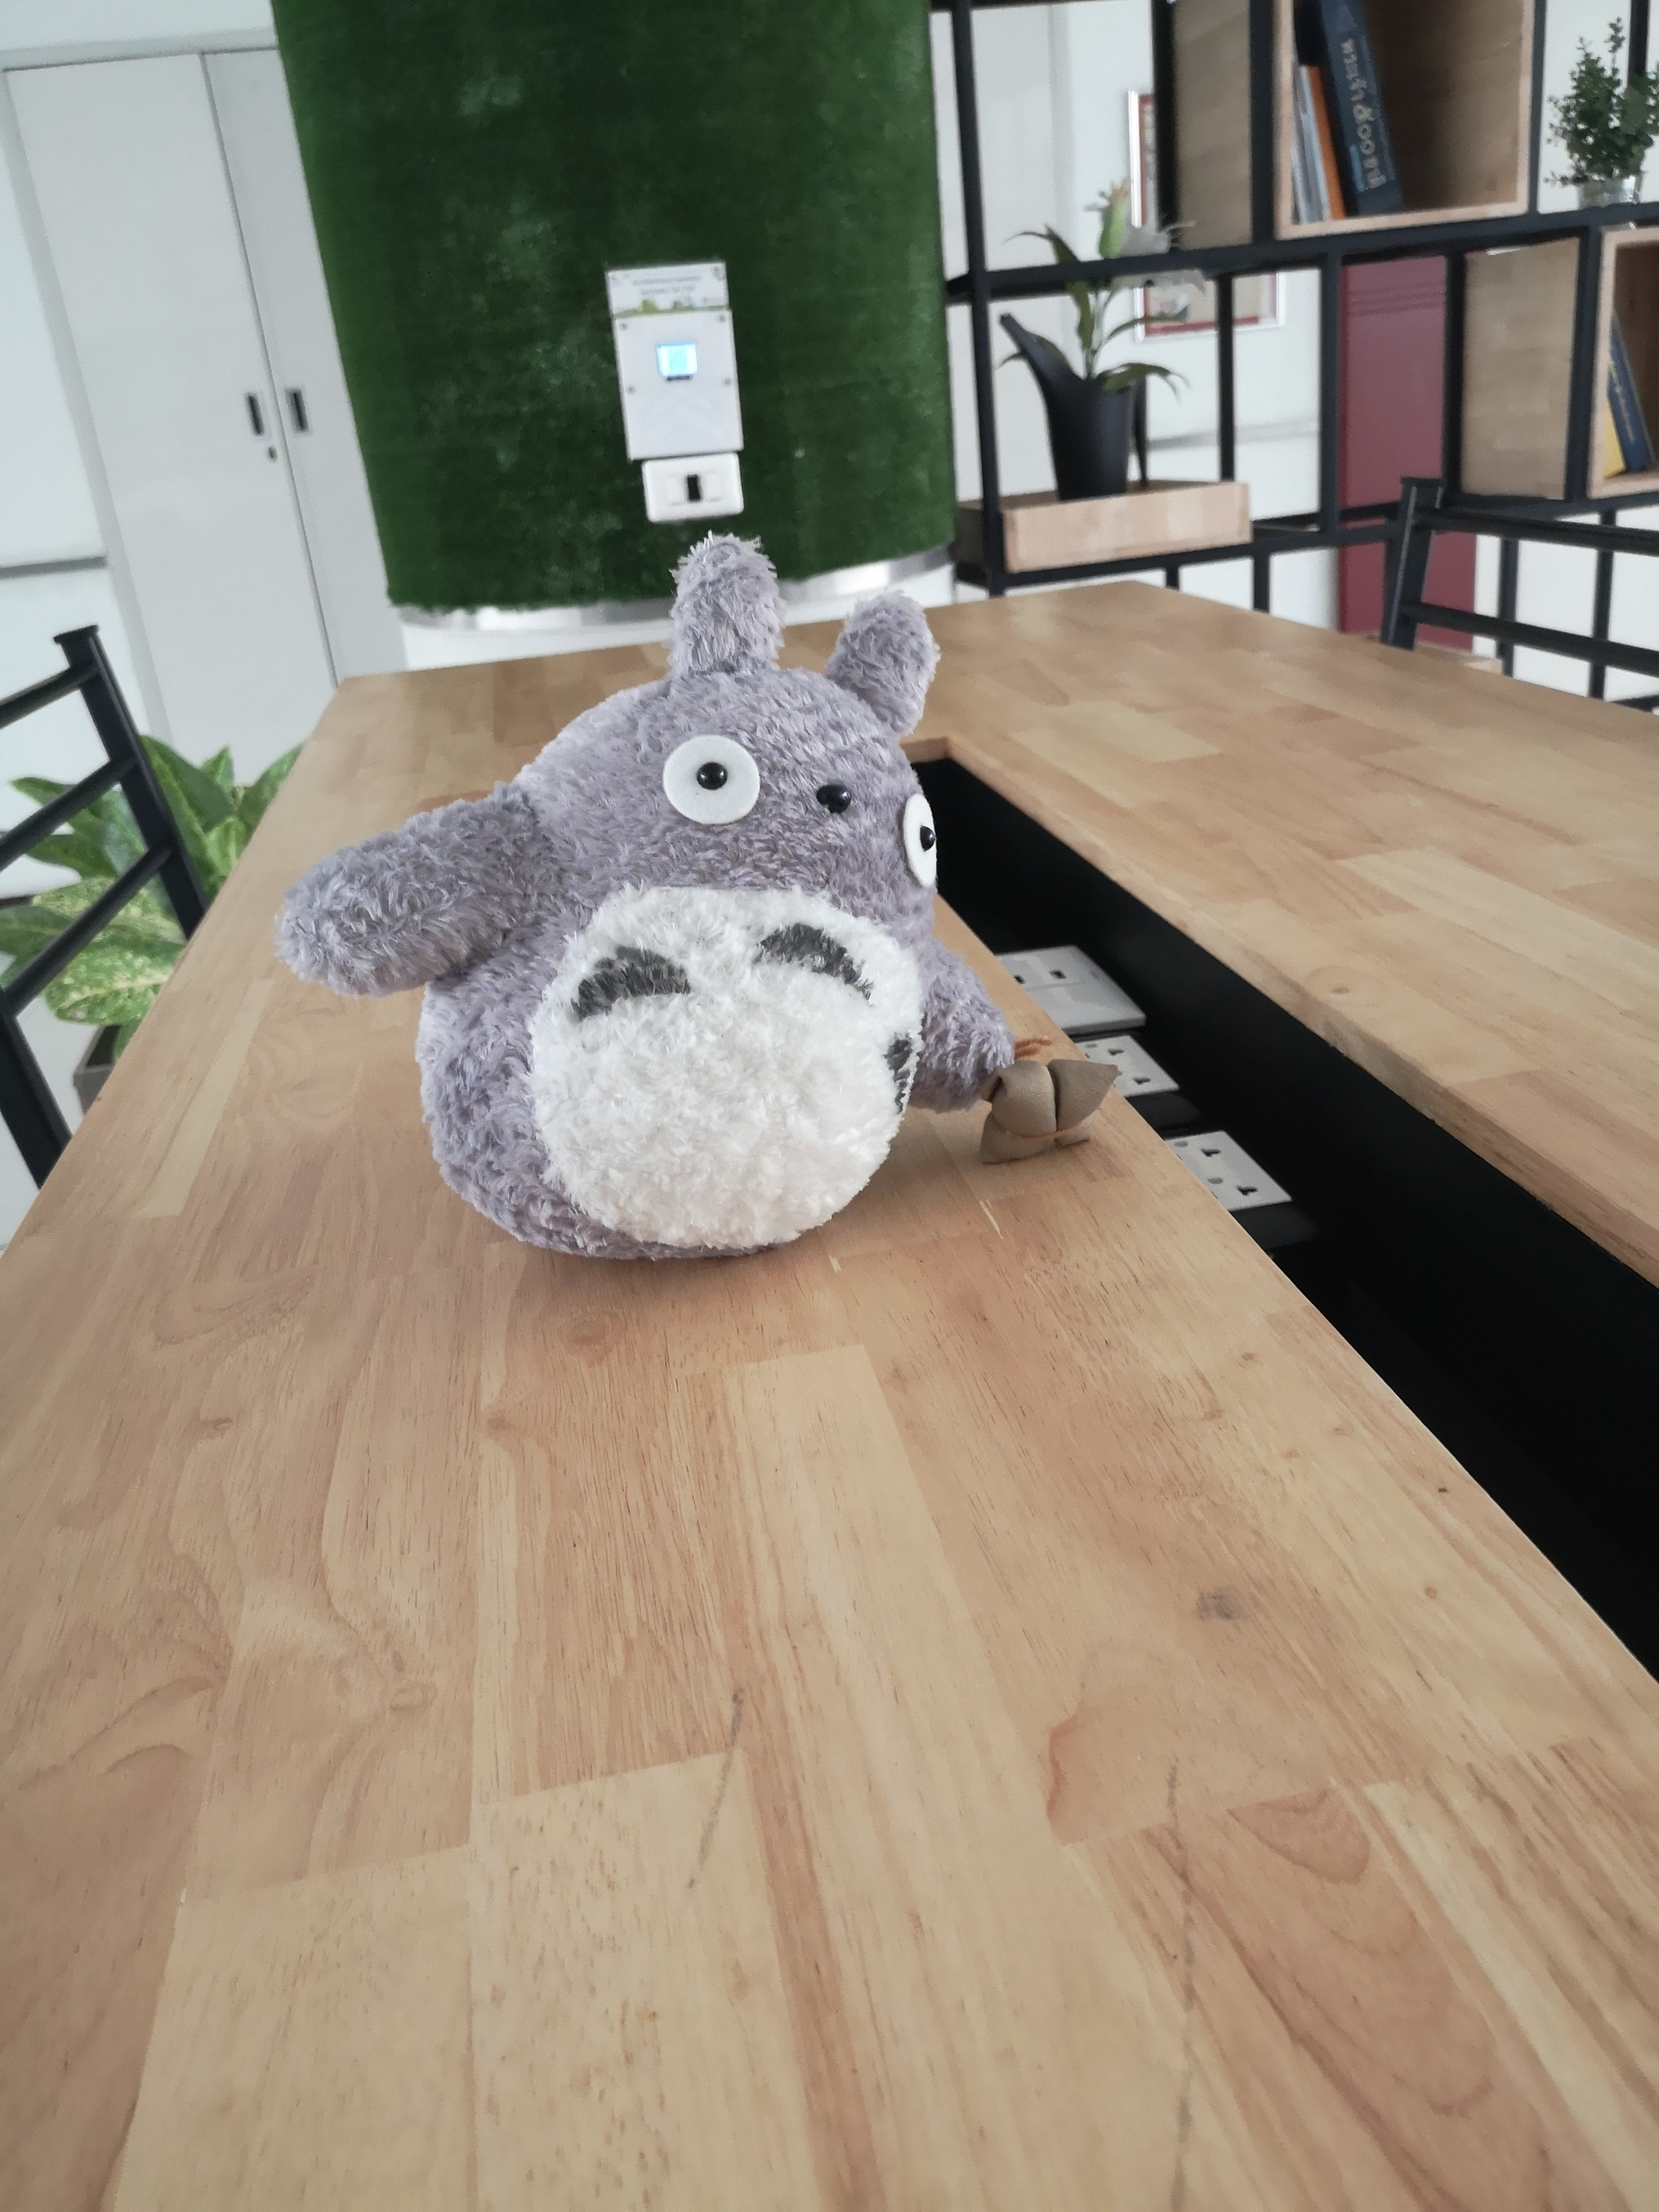totoro: (270, 531, 1122, 1275)
